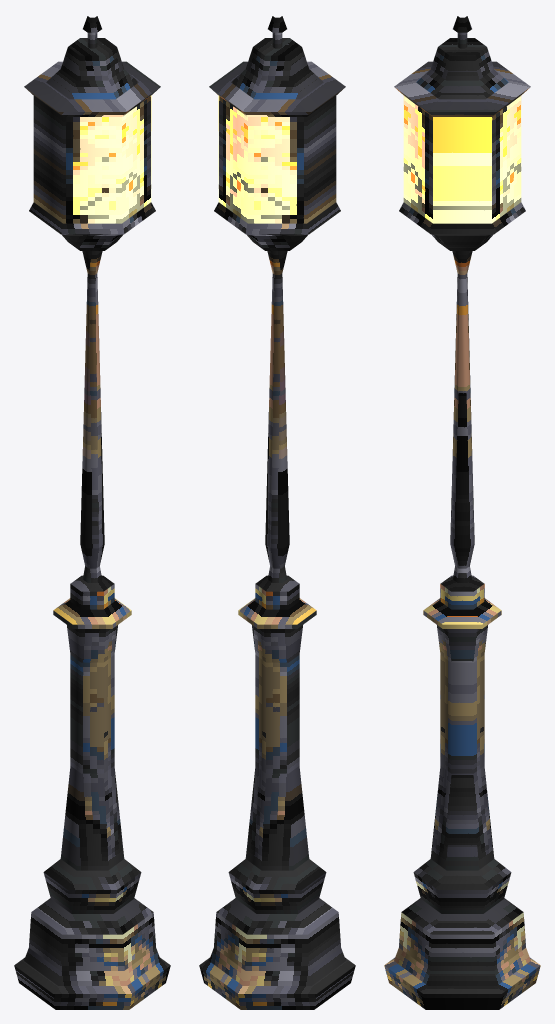
File: lamp-iron-lantern.glb
3 renders of one model, left to right at view 1: azimuth 30°, elevation 25°; view 2: azimuth 150°, elevation 25°; view 3: azimuth 270°, elevation 25°, orthographic.
Parts seen in each view (by area): view 1: lathe-210-29; view 2: lathe-210-29; view 3: lathe-210-29.
Boxes of the visible parts, <box> form: lathe-210-29: <box>14,16,170,1009</box>; lathe-210-29: <box>199,16,355,1009</box>; lathe-210-29: <box>384,16,540,1009</box>.
Size of the model in its own units: 0.5242 by 4.16 by 0.6053.
Materials: 1 (1 with a texture image).
